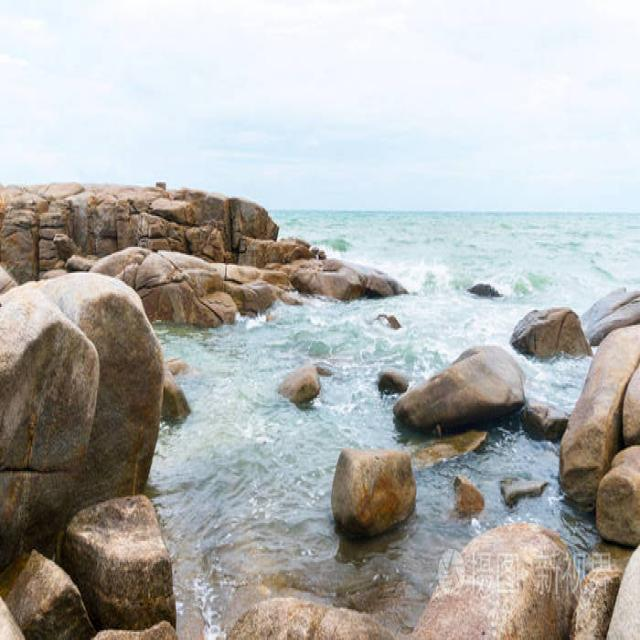reef: (397, 300, 585, 448), (317, 394, 448, 571), (260, 330, 344, 406), (304, 241, 386, 316)
